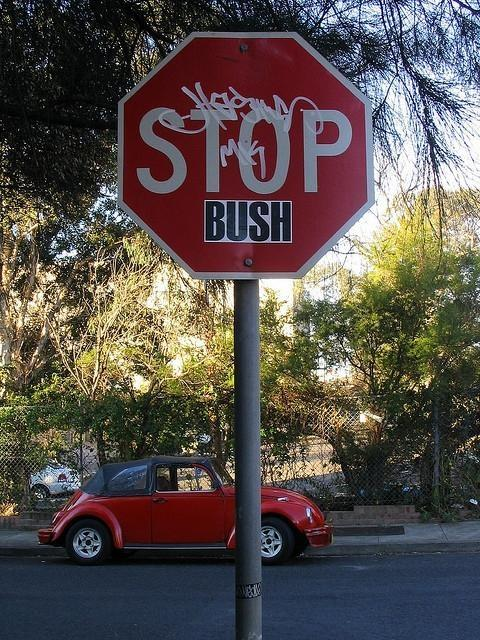car: (44, 456, 336, 564), (28, 458, 80, 501)
